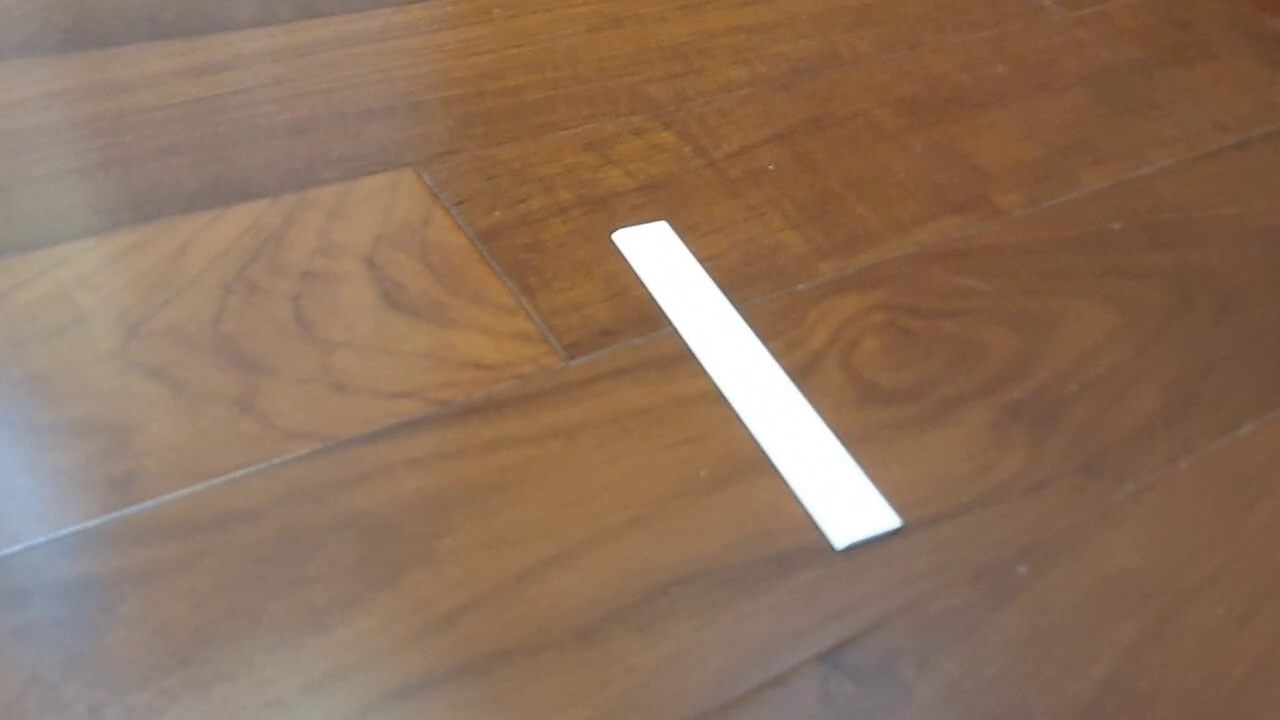ruler: (608, 218, 906, 554)
